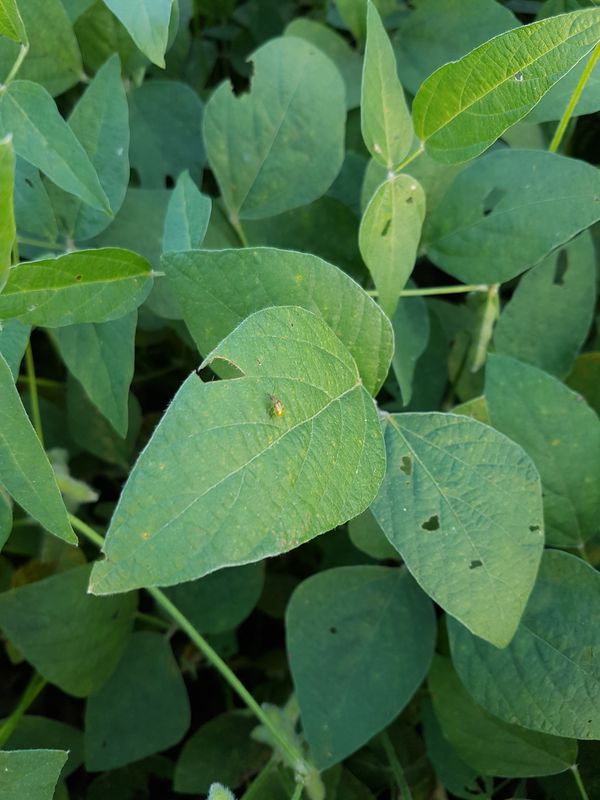Diabrotica_speciosa: (262, 388, 291, 425)
